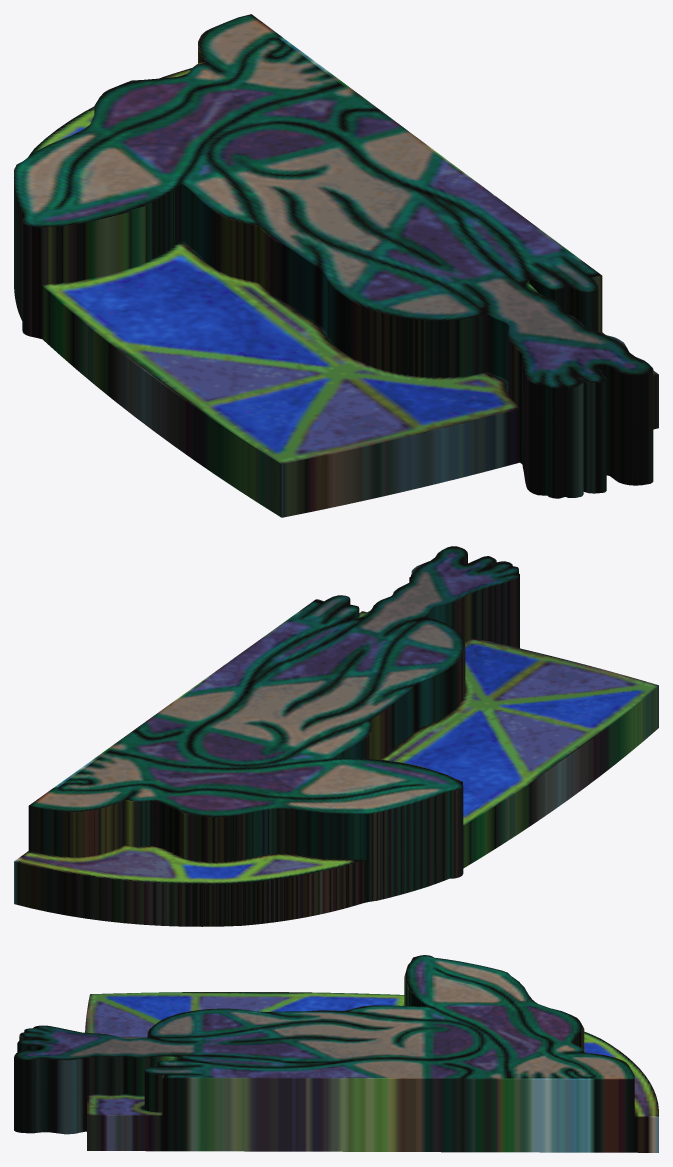
Rendered from muro del sol 6.dae.
The picture shows the model from 3 angles, top to bottom: view 1: azimuth 30°, elevation 25°; view 2: azimuth 150°, elevation 25°; view 3: azimuth 270°, elevation 25°; orthographic projection. The views are drawn at different scales.
Visible parts, largest first — view 1: SketchUp; view 2: SketchUp; view 3: SketchUp.
Part boxes in pixels (<box>): SketchUp: <box>14,14,658,517</box>; SketchUp: <box>14,546,658,926</box>; SketchUp: <box>14,955,658,1152</box>.
Bounding box in the file's own units: 24.63 × 53.49 × 6.69.
